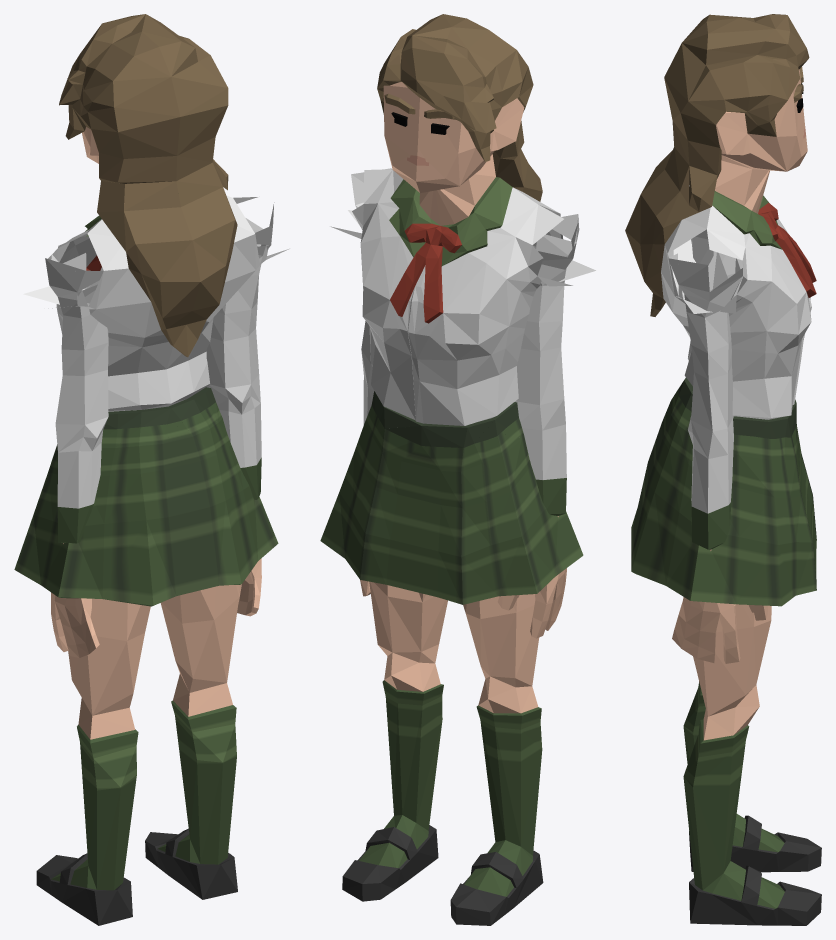
File: Demon_SchoolGirl_01_stand.obj
3 renders of one model, left to right at view 1: azimuth 30°, elevation 25°; view 2: azimuth 150°, elevation 25°; view 3: azimuth 270°, elevation 25°, orthographic.
Visible parts, largest first — view 1: Demon_SchoolGirl_01_stand; view 2: Demon_SchoolGirl_01_stand; view 3: Demon_SchoolGirl_01_stand.
Part boxes in pixels (x1,y1,x2,y2): Demon_SchoolGirl_01_stand: (14, 14, 289, 925); Demon_SchoolGirl_01_stand: (320, 14, 595, 925); Demon_SchoolGirl_01_stand: (625, 14, 821, 925).
Size of the model in its own units: 0.5549 by 1.82 by 0.3737.
Materials: 1 (1 with a texture image).
